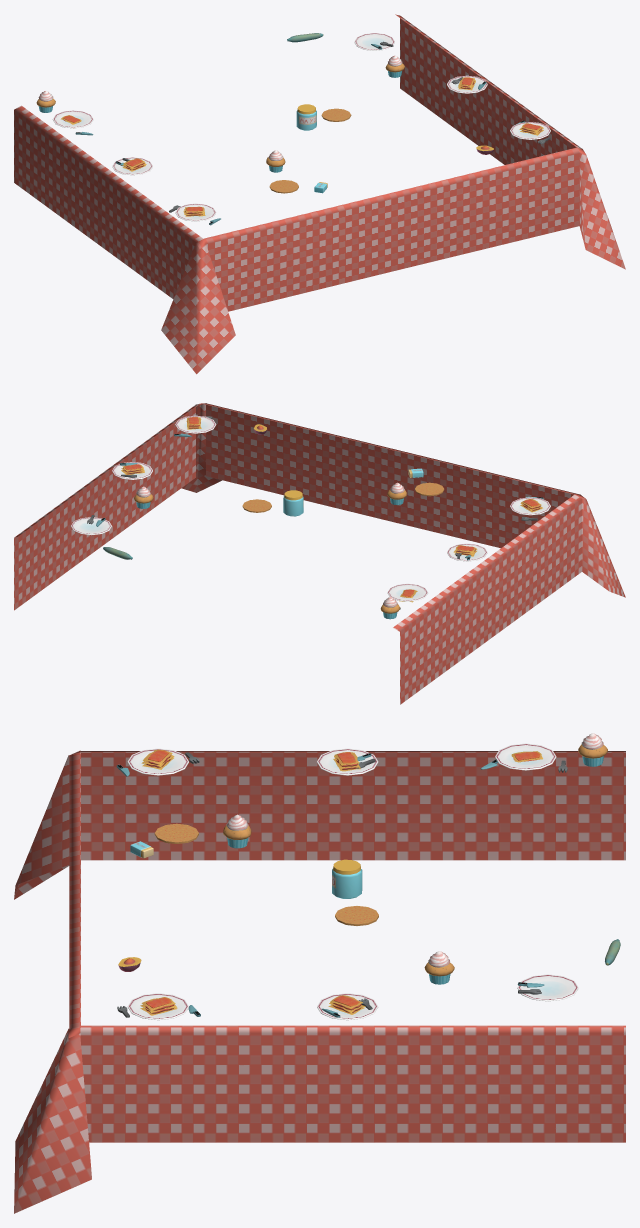
3 renders of one model, top to bottom at view 1: azimuth 30°, elevation 25°; view 2: azimuth 150°, elevation 25°; view 3: azimuth 270°, elevation 25°, orthographic. The views are drawn at different scales.
Parts seen in each view (by area): view 1: TableSides 1, Plate5, MayonaiseGlas, Plate8; view 2: TableSides 1, Plate5, MayonaiseGlas, Plate8, Plate; view 3: TableSides 1, Plate5, MayonaiseGlas, Plate8, Plate6, Plate, Plate7, Plate4, Coaster2, Coaster, Cupcake2, Cupcake (+1 smaller).
Boxes of the visible parts, x1,y1,x2,y2 form: TableSides 1: [14, 14, 625, 374]; Plate5: [354, 33, 394, 50]; MayonaiseGlas: [296, 104, 316, 130]; Plate8: [52, 110, 93, 128]; TableSides 1: [14, 403, 625, 704]; Plate5: [71, 517, 111, 535]; MayonaiseGlas: [283, 490, 303, 516]; Plate8: [387, 583, 428, 601]; Plate: [175, 415, 216, 433]; TableSides 1: [14, 750, 625, 1213]; Plate5: [517, 974, 578, 1001]; MayonaiseGlas: [332, 859, 362, 898]; Plate8: [495, 743, 556, 770]; Plate6: [127, 748, 188, 775]; Plate: [127, 993, 188, 1020]; Plate7: [317, 748, 378, 775]; Plate4: [317, 993, 378, 1020]; Coaster2: [154, 823, 198, 843]; Coaster: [335, 906, 378, 925]; Cupcake2: [578, 733, 607, 766]; Cupcake: [424, 951, 454, 984].
Size of the model in its own units: 69.65 by 19.62 by 54.97.
